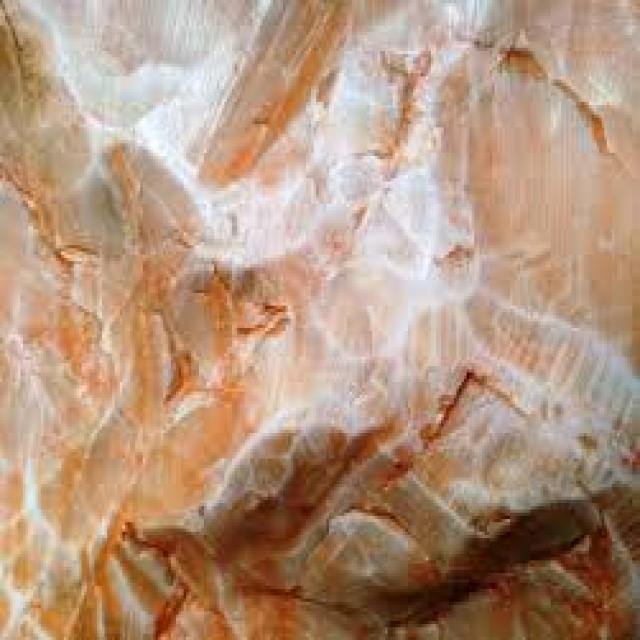Metamorphic: (2, 3, 635, 634)
